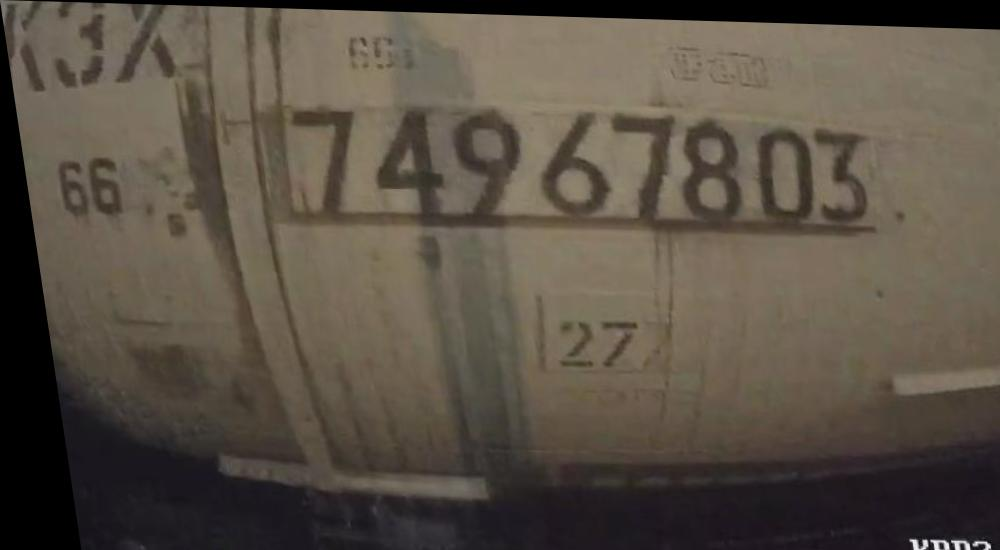Wagon-number: (280, 99, 872, 225)
